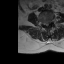CCS_stenosis: (46, 21, 48, 28)
LFS_stenosis: (49, 20, 51, 24)
LLS_severe_stenosis: (48, 21, 49, 26)
RFS_normal: (43, 21, 45, 26)
RLS_normal: (45, 21, 46, 27)
